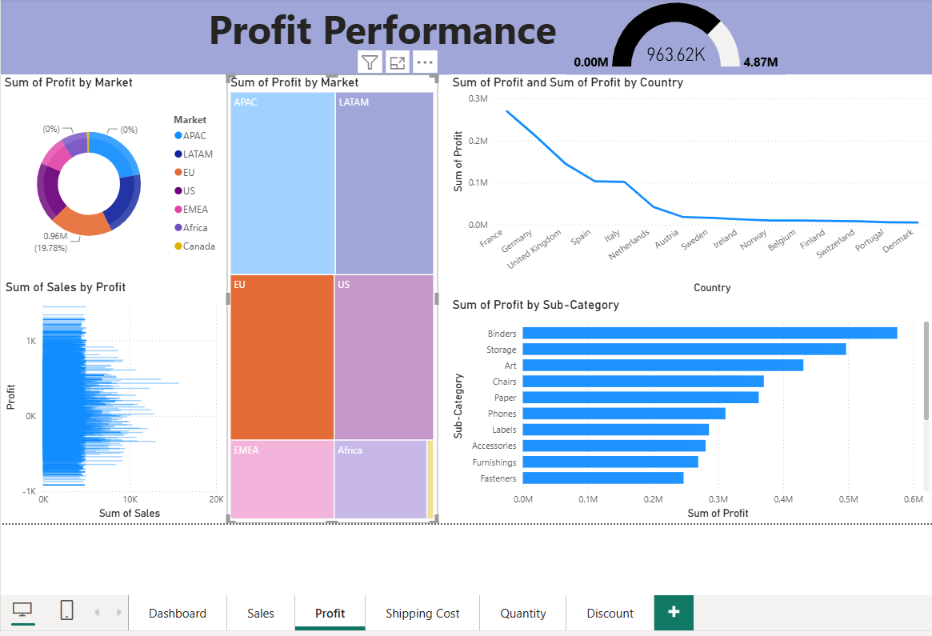

Layout of this report page (visuals, bound fields, positions):
{"tool":"powerbi","page":{"name":"Profit","canvas":[1280,720],"ordinal":2},"visuals":[{"type":"textbox","box":[0,0,1280,104.6],"z":0},{"type":"donutChart","fields":{"Category":["New_Visualized_Sales.Market"],"Y":["Sum(New_Visualized_Sales.Profit)"]},"box":[0,104.6,309.2,281.5],"z":1000},{"type":"lineChart","fields":{"Category":["New_Visualized_Sales.Country"],"Y":["Sum(New_Visualized_Sales.Profit)"]},"box":[615.4,104.6,664.6,306.2],"z":2000},{"type":"gauge","fields":{"Y":["Sum(New_Visualized_Sales.Profit)"]},"box":[776.9,0,300,104.6],"z":3000},{"type":"barChart","fields":{"Category":["New_Visualized_Sales.Profit"],"Y":["Sum(New_Visualized_Sales.Sales)"]},"box":[1.5,386.2,309.2,333.8],"z":4000},{"type":"barChart","fields":{"Category":["New_Visualized_Sales.Sub-Category"],"Y":["Sum(New_Visualized_Sales.Profit)"]},"box":[615.4,410.8,664.6,309.2],"z":5000},{"type":"treemap","fields":{"Group":["New_Visualized_Sales.Market"],"Values":["Sum(New_Visualized_Sales.Profit)"]},"box":[310.8,104.6,289.2,615.4],"z":6000}]}

Visuals, with their boxes on the page's 1280x720 design canvas (x1, y1, x2, y2). These are canvas units, not pixel positions in the 932x636 screenshot, which may show the page scaled, cropped or inside an application window:
textbox: 0/0/1280/105
donutChart - New_Visualized_Sales.Market x Sum(New_Visualized_Sales.Profit): 0/105/309/386
lineChart - New_Visualized_Sales.Country x Sum(New_Visualized_Sales.Profit): 615/105/1280/411
gauge - Sum(New_Visualized_Sales.Profit): 777/0/1077/105
barChart - New_Visualized_Sales.Profit x Sum(New_Visualized_Sales.Sales): 2/386/311/720
barChart - New_Visualized_Sales.Sub-Category x Sum(New_Visualized_Sales.Profit): 615/411/1280/720
treemap - New_Visualized_Sales.Market x Sum(New_Visualized_Sales.Profit): 311/105/600/720
